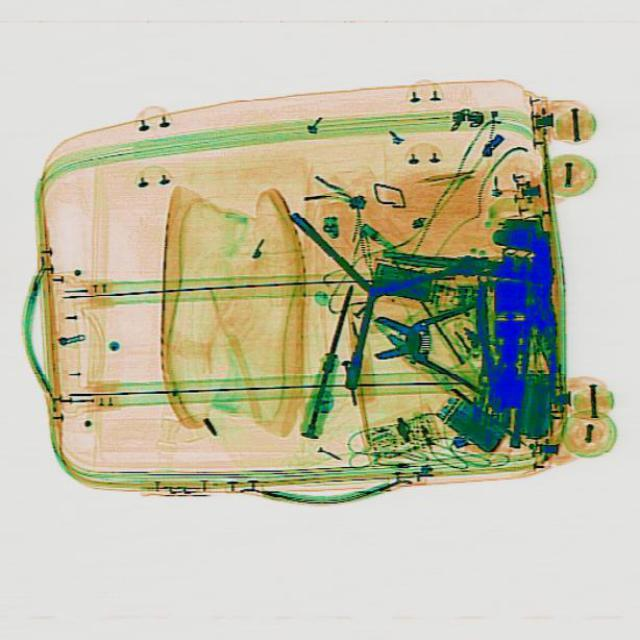Pliers: (370, 296, 488, 392)
